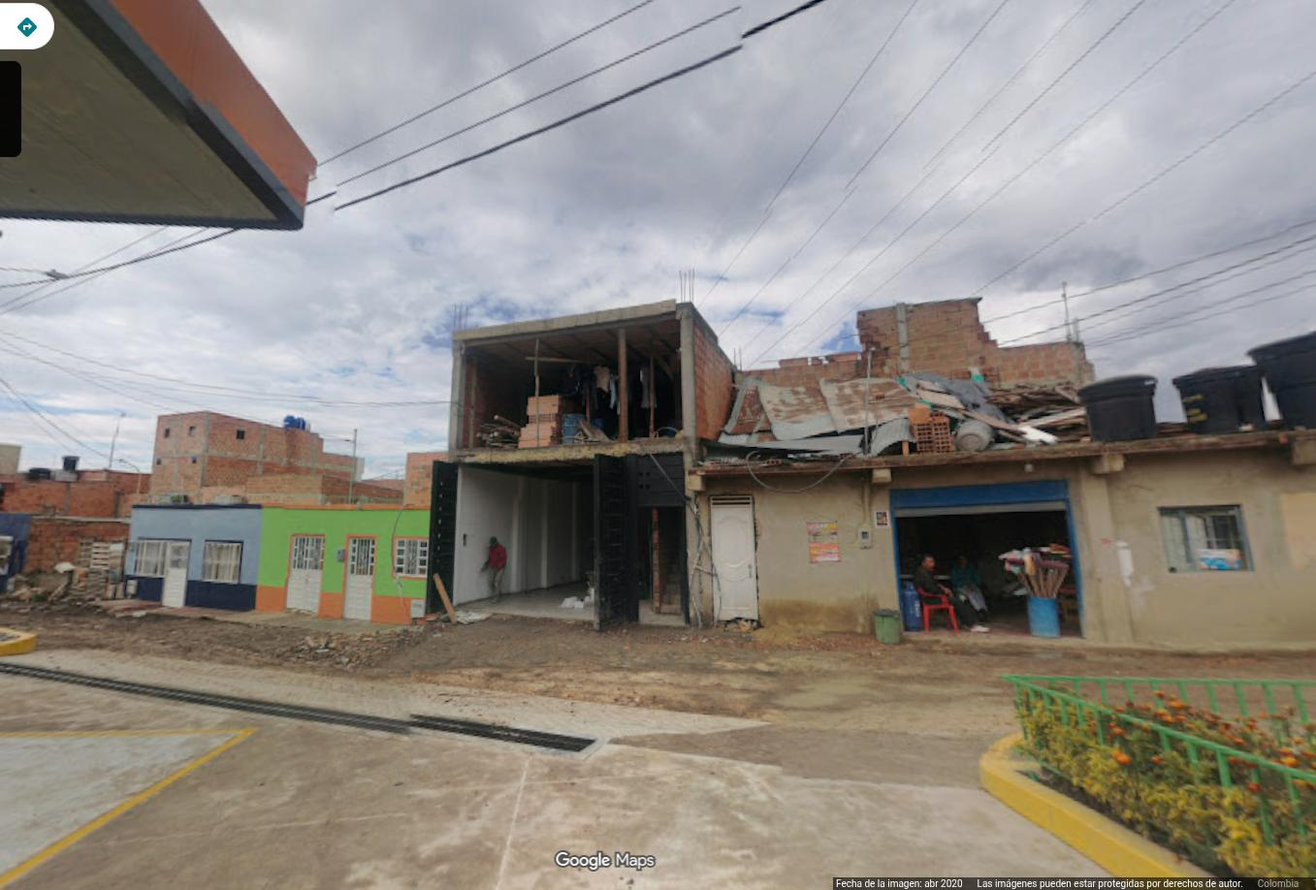casa: (689, 430, 1315, 649), (258, 507, 435, 623), (127, 506, 262, 610)
